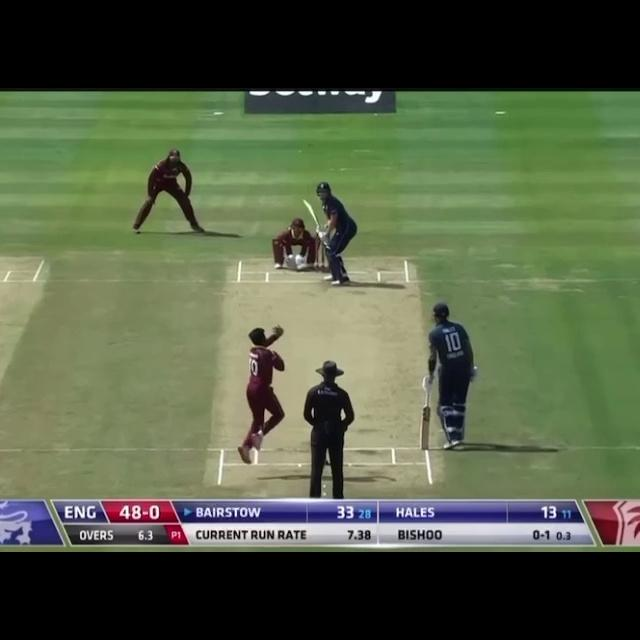umpire: (297, 359, 360, 500)
